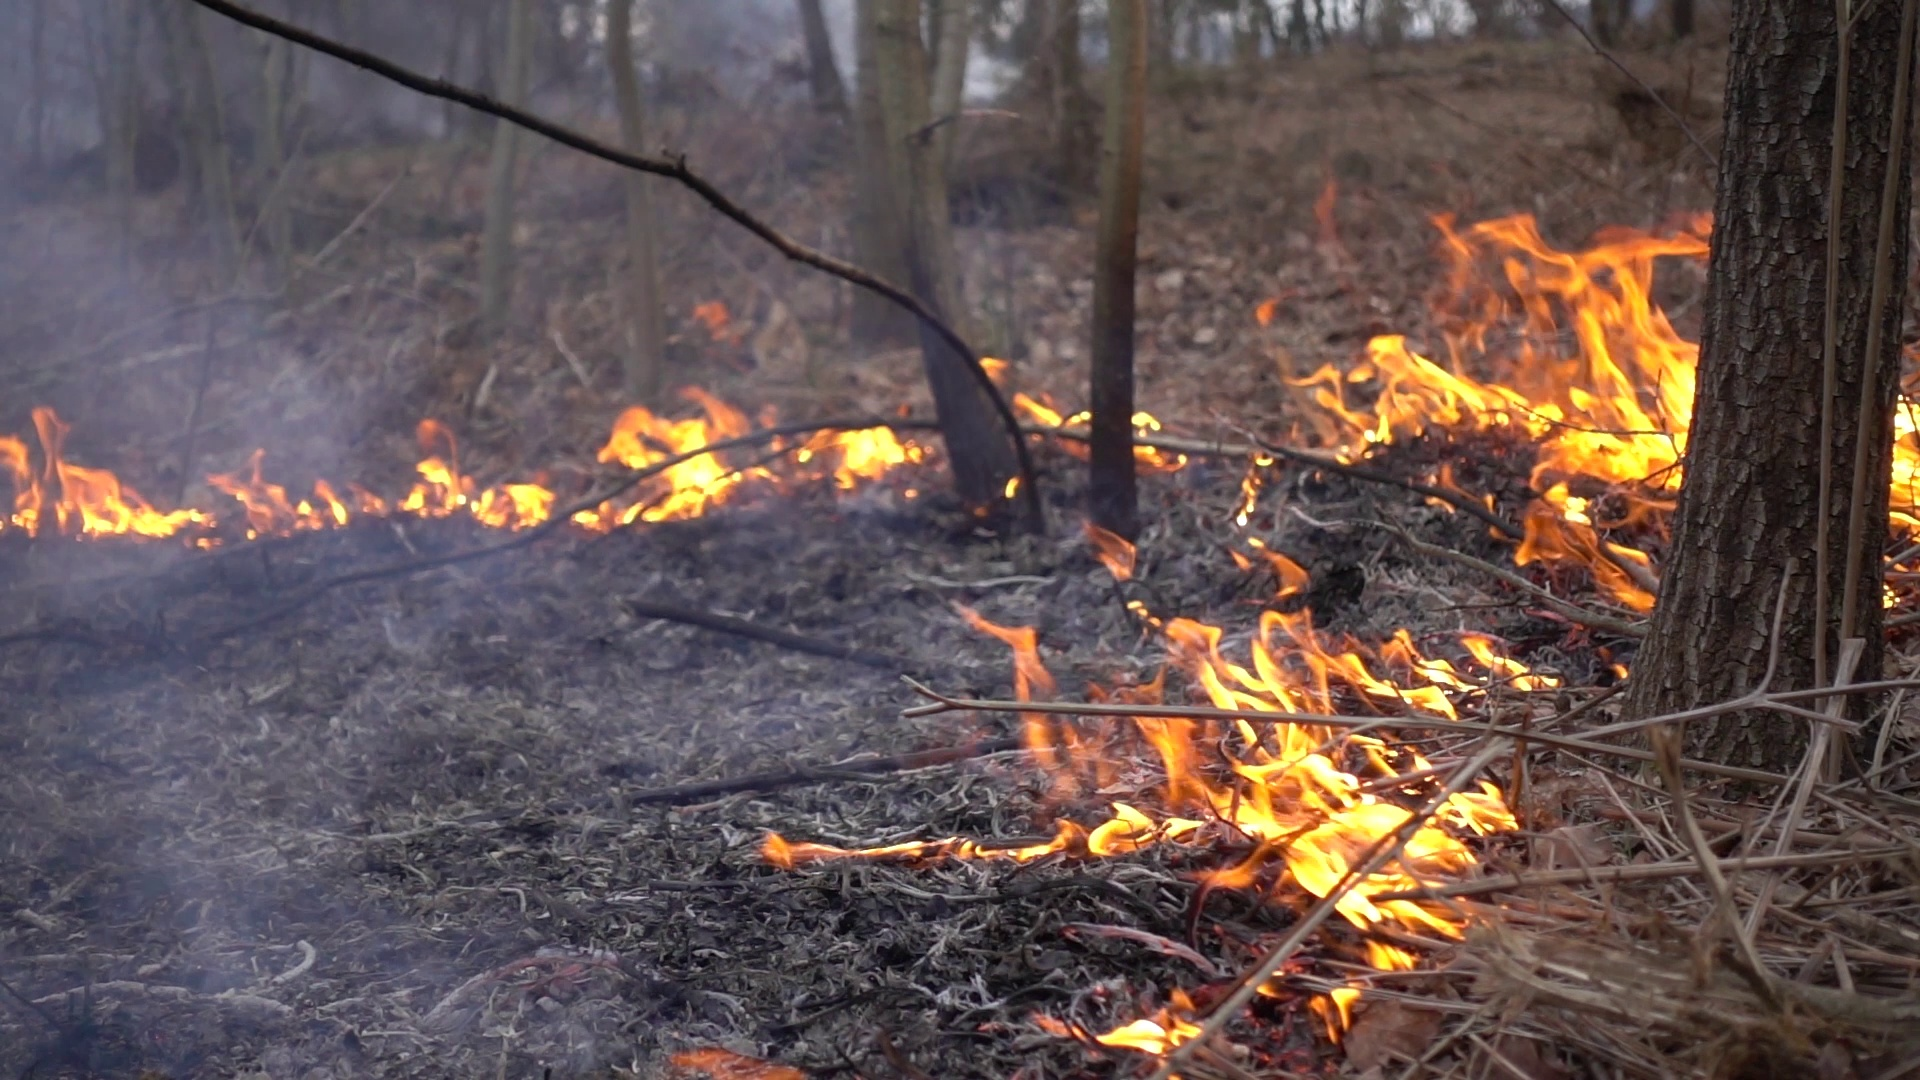fire: (988, 608, 1549, 980), (1449, 208, 1691, 582), (1292, 334, 1453, 446), (613, 409, 717, 522), (4, 476, 175, 538), (411, 475, 549, 527), (1894, 398, 1920, 505), (847, 429, 902, 476)
